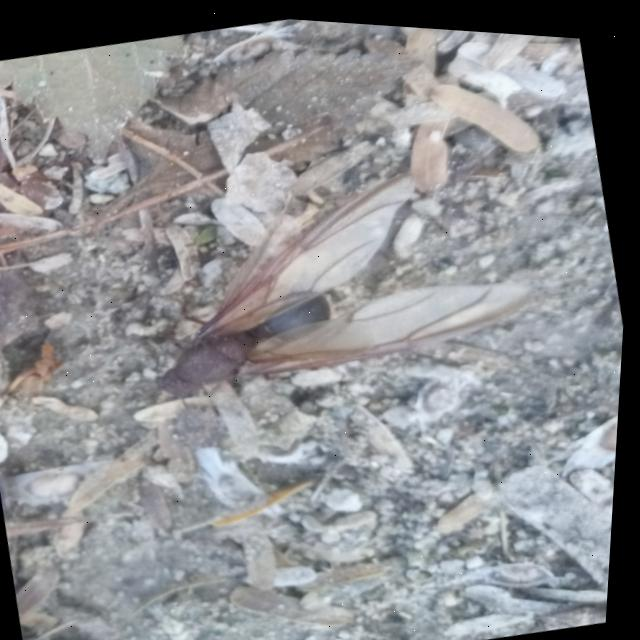Alive-Female-Alate: (72, 126, 558, 440)
